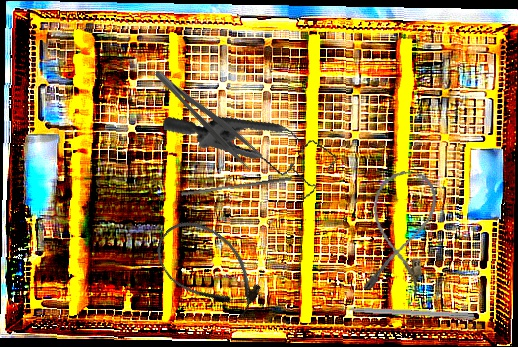Cannula: (144, 207, 274, 329), (359, 167, 441, 298)
Chopper: (328, 298, 475, 319)
Dressing Forceps: (150, 58, 266, 174)
Pusher: (180, 172, 293, 200)
Speculum: (161, 80, 346, 228)
